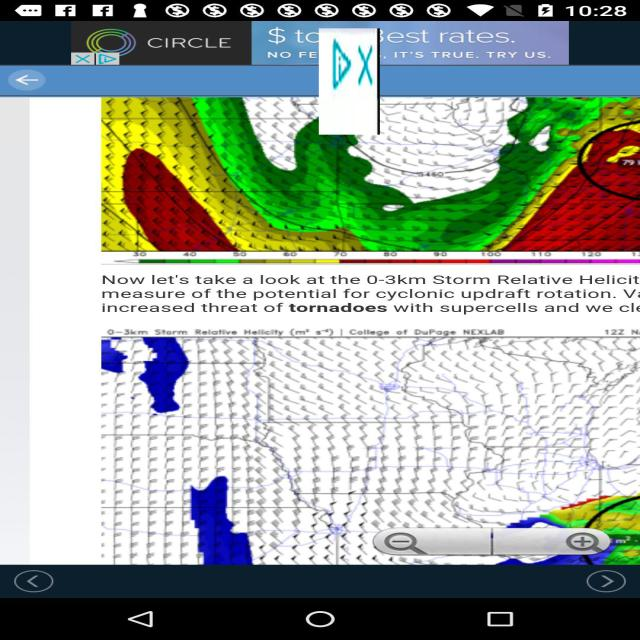sneaking: (319, 28, 380, 135)
